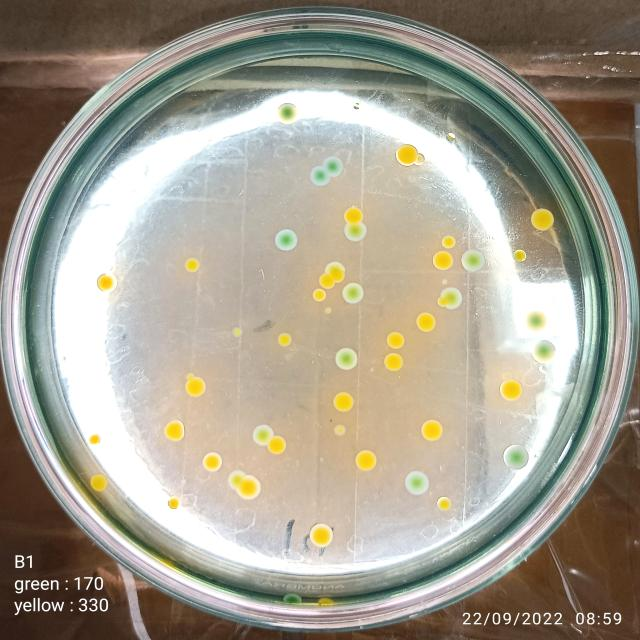green: (502, 444, 528, 470), (405, 470, 429, 494), (532, 339, 556, 363), (274, 229, 298, 251), (342, 282, 364, 304), (336, 347, 357, 370), (462, 251, 485, 272), (323, 156, 344, 178), (277, 103, 298, 124), (526, 310, 546, 332), (443, 288, 462, 310), (253, 425, 273, 445), (345, 223, 367, 241), (311, 166, 330, 186), (228, 471, 244, 488), (282, 594, 302, 604), (325, 307, 331, 314)
yellow: (310, 523, 333, 547), (395, 144, 418, 167), (239, 476, 261, 500), (531, 209, 554, 231), (422, 420, 444, 442), (164, 420, 185, 442), (355, 450, 377, 471), (96, 273, 118, 293), (432, 250, 454, 270), (202, 452, 223, 472), (501, 380, 522, 400), (334, 392, 354, 412), (416, 312, 436, 332), (186, 377, 206, 397), (384, 353, 404, 372), (343, 207, 364, 224), (90, 474, 108, 492), (268, 436, 286, 454), (387, 332, 405, 349), (318, 274, 336, 290), (328, 267, 346, 283), (437, 496, 452, 512), (185, 258, 200, 273), (278, 333, 292, 347), (313, 288, 327, 302), (442, 236, 456, 249), (168, 496, 180, 509), (514, 249, 526, 262), (318, 598, 334, 606), (89, 434, 101, 444), (334, 426, 346, 436), (232, 328, 243, 338), (446, 133, 455, 141)
